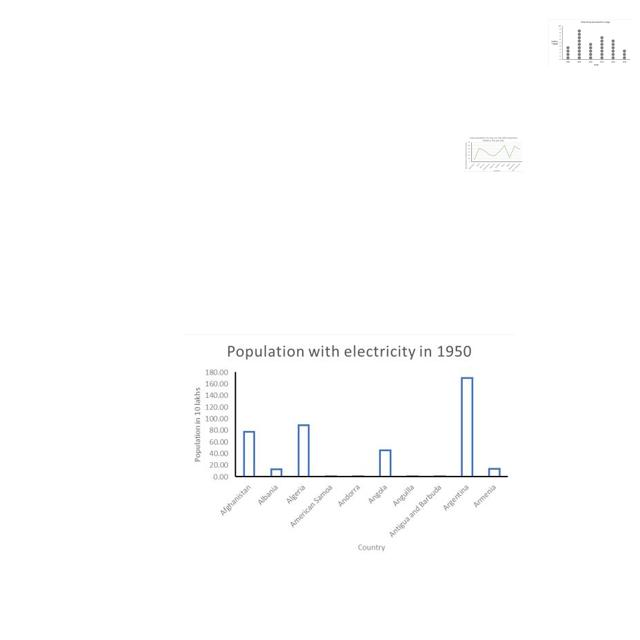Graph: (183, 334, 515, 562), (548, 19, 632, 68), (464, 136, 523, 172)
